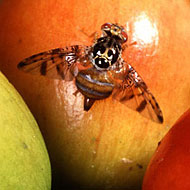Fruit fly: (38, 16, 170, 126)
